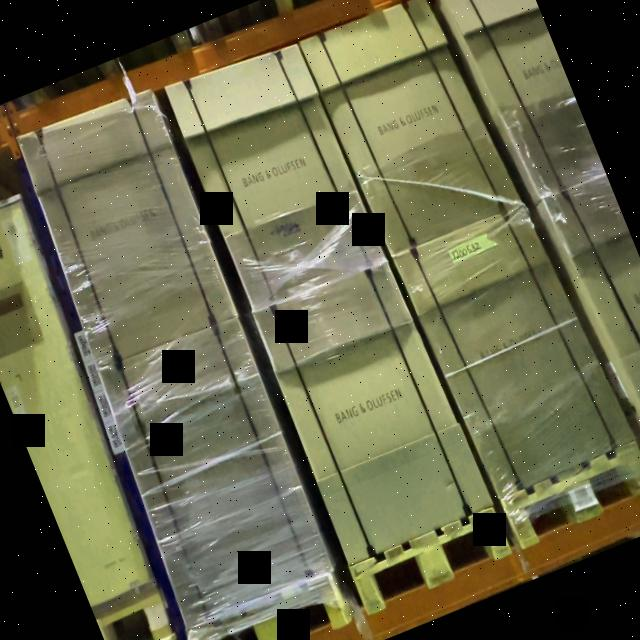box: (253, 262, 488, 564), (101, 322, 334, 622), (401, 206, 621, 497), (18, 88, 236, 364), (170, 44, 383, 310), (303, 0, 508, 255)
